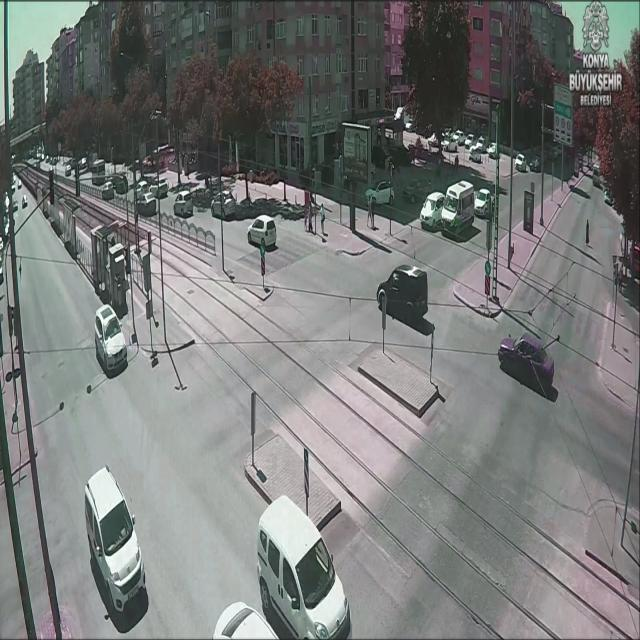Car: (254, 490, 363, 640), (84, 468, 145, 614), (499, 333, 555, 395), (378, 264, 428, 322), (213, 602, 286, 638), (94, 304, 127, 376), (420, 192, 447, 230), (248, 215, 278, 248), (365, 180, 395, 206), (210, 192, 238, 219), (473, 188, 494, 218), (135, 192, 158, 216), (173, 191, 194, 217), (149, 178, 170, 198), (110, 174, 128, 194), (136, 180, 152, 198), (515, 154, 529, 172), (11, 173, 21, 192), (142, 156, 156, 169), (76, 158, 88, 172), (62, 160, 74, 174), (464, 134, 476, 147), (404, 116, 414, 131)
